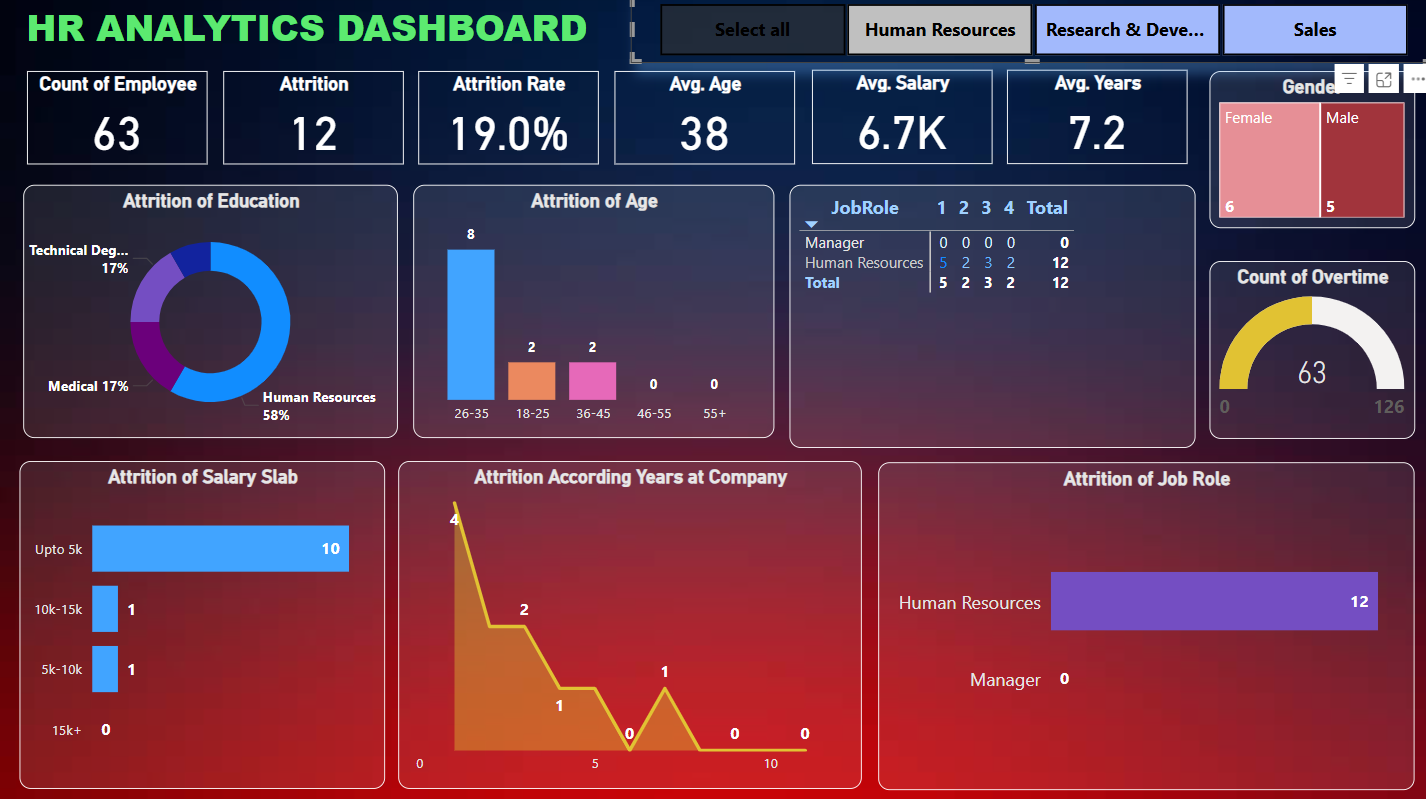

The page's visual inventory and layout, read from the dashboard file:
{"tool":"powerbi","page":{"name":"Page 1","canvas":[1280,720],"ordinal":0},"visuals":[{"type":"card","title":"Count of Employee","fields":{"Values":["CountNonNull(HR_Analytics.EmpID)"]},"box":[26.3,66.4,160.8,83.2],"z":0},{"type":"card","title":"Attrition","fields":{"Values":["Sum(HR_Analytics.AttritionCount)"]},"box":[201.4,66.4,160.8,83.2],"z":1000},{"type":"card","title":"Attrition Rate","fields":{"Values":["HR_Analytics.AttritionRate"]},"box":[375.1,66.4,160.8,83.2],"z":2000},{"type":"card","title":"Avg. Age","fields":{"Values":["Avg(HR_Analytics.Age)"]},"box":[550.2,66.4,160.8,83.2],"z":3000},{"type":"card","title":"Avg. Salary","fields":{"Values":["Avg(HR_Analytics.MonthlyIncome)"]},"box":[725.4,66.2,160.5,83.7],"z":4000},{"type":"card","title":"Avg. Years","fields":{"Values":["Avg(HR_Analytics.YearsAtCompany)"]},"box":[899.7,66.2,160.5,83.7],"z":5000},{"type":"donutChart","title":"Attrition of Education","fields":{"Category":["HR_Analytics.EducationField"],"Y":["Sum(HR_Analytics.AttritionCount)"]},"box":[23.3,168.1,333.7,225.8],"z":6000},{"type":"columnChart","title":"Attrition of Age","fields":{"Category":["HR_Analytics.AgeGroup"],"Y":["Sum(HR_Analytics.AttritionCount)"]},"box":[370.6,168.1,321.5,225.8],"z":7000},{"type":"pivotTable","fields":{"Rows":["HR_Analytics.JobRole"],"Columns":["HR_Analytics.JobSatisfaction"],"Values":["Sum(HR_Analytics.AttritionCount)"]},"box":[705.5,168.1,362,234.4],"z":8000},{"type":"clusteredBarChart","title":"Attrition of Salary Slab","fields":{"Category":["HR_Analytics.SalarySlab"],"Y":["Sum(HR_Analytics.AttritionCount)"]},"box":[20.4,414.2,325.3,291.9],"z":9000},{"type":"clusteredBarChart","title":"Attrition of Job Role","fields":{"Category":["HR_Analytics.JobRole"],"Y":["Sum(HR_Analytics.AttritionCount)"]},"box":[785.3,414.7,477.3,292],"z":10000},{"type":"areaChart","title":"Attrition According Years at Company","fields":{"Category":["HR_Analytics.YearsAtCompany"],"Y":["Sum(HR_Analytics.AttritionCount)"]},"box":[356.8,414.2,412.9,291.9],"z":11000},{"type":"treemap","title":"Gender","fields":{"Group":["HR_Analytics.Gender"],"Values":["Sum(HR_Analytics.AttritionCount)"]},"box":[1079.8,66.3,182.8,139.9],"z":12000},{"type":"gauge","title":"Count of Overtime","fields":{"Y":["CountNonNull(HR_Analytics.OverTime)"]},"box":[1079.8,235.6,182.8,158.3],"z":13000},{"type":"textbox","box":[20.9,0,554.6,61.4],"z":14000},{"type":"slicer","fields":{"Values":["HR_Analytics.Department"]},"box":[564.4,0,715.9,59.8],"z":15000}]}

Visuals, with their boxes in screenshot pixels (x1, y1, x2, y2), scaled from the page's 1280x720 canvas onto the 1426x799 screenshot:
"Count of Employee" card: bbox=[29, 74, 208, 166]
"Attrition" card: bbox=[224, 74, 404, 166]
"Attrition Rate" card: bbox=[418, 74, 597, 166]
"Avg. Age" card: bbox=[613, 74, 792, 166]
"Avg. Salary" card: bbox=[808, 73, 987, 166]
"Avg. Years" card: bbox=[1002, 73, 1181, 166]
"Attrition of Education" donutChart: bbox=[26, 187, 398, 437]
"Attrition of Age" columnChart: bbox=[413, 187, 771, 437]
pivotTable - HR_Analytics.JobRole x HR_Analytics.JobSatisfaction: bbox=[786, 187, 1189, 447]
"Attrition of Salary Slab" clusteredBarChart: bbox=[23, 460, 385, 784]
"Attrition of Job Role" clusteredBarChart: bbox=[875, 460, 1407, 784]
"Attrition According Years at Company" areaChart: bbox=[397, 460, 857, 784]
"Gender" treemap: bbox=[1203, 74, 1407, 229]
"Count of Overtime" gauge: bbox=[1203, 261, 1407, 437]
textbox: bbox=[23, 0, 641, 68]
slicer - HR_Analytics.Department: bbox=[629, 0, 1425, 66]
